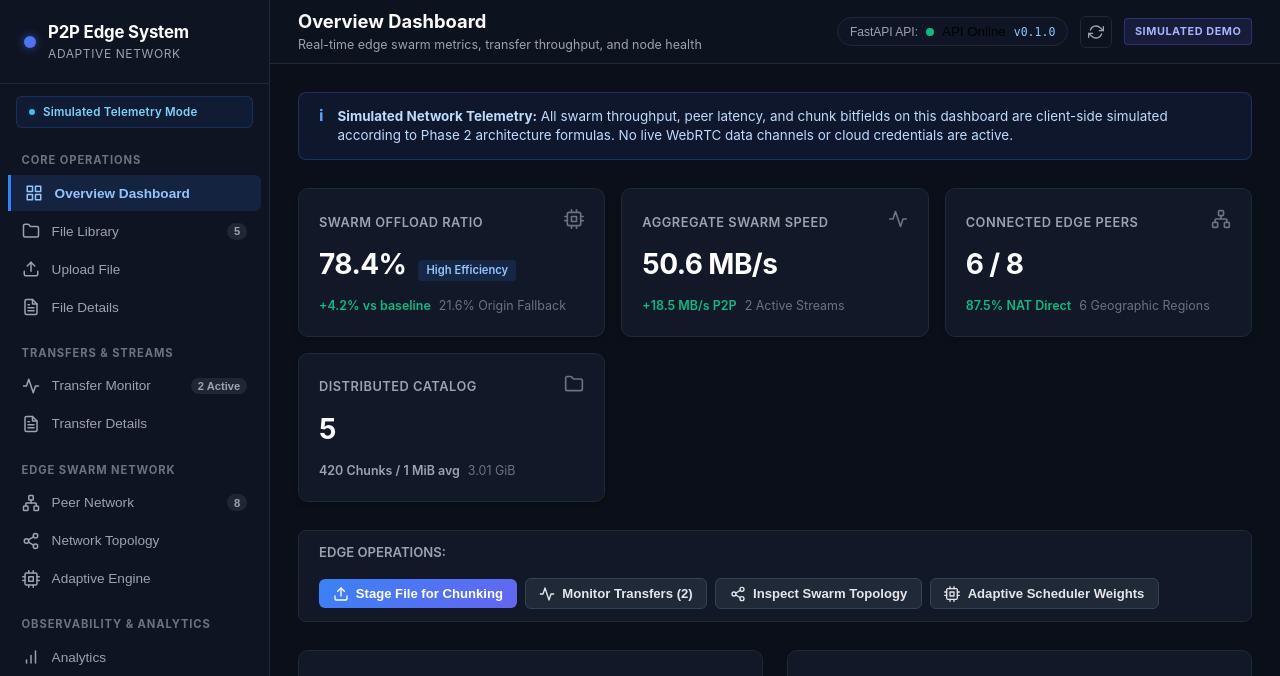
Intelligent P2P Edge Frontend - Phase 3 Navigation & UI › navigates to Upload File and shows chunk calculation
Click the button "Upload File": (134, 269) [8,251,261,287]
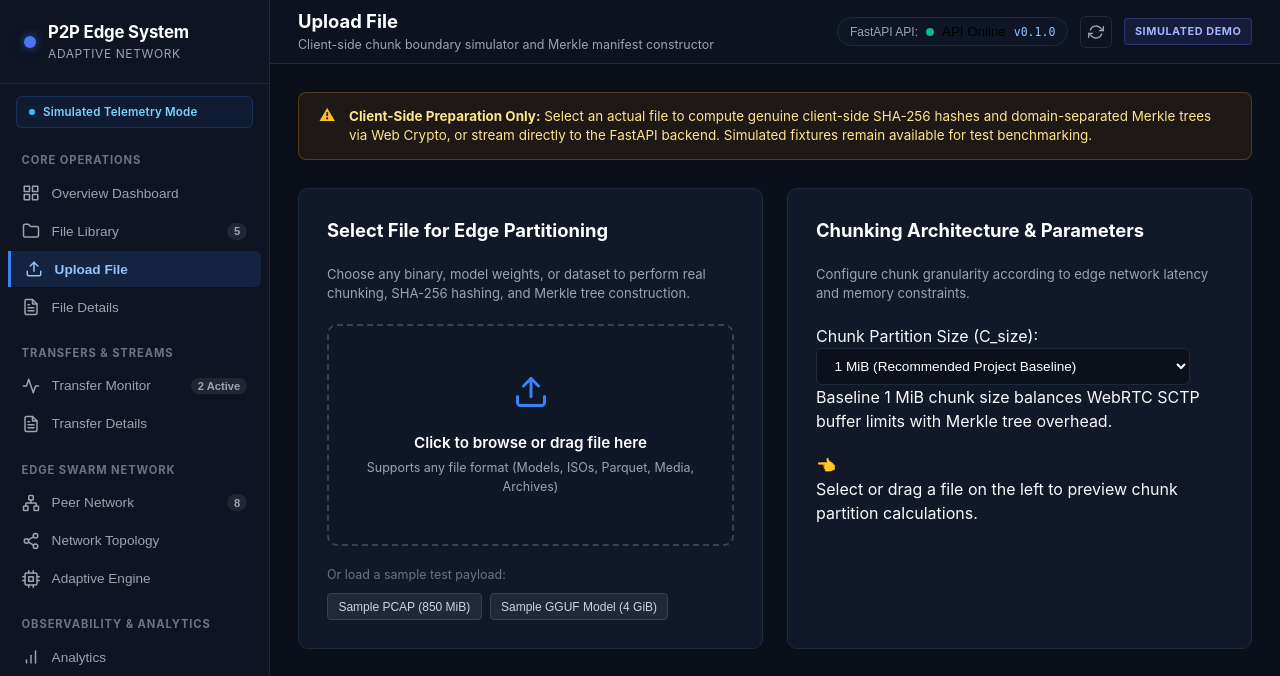
Expected: the heading "Select File for Edge Partitioning" is shown, [327,219,608,241]
Expected: the text "Client-Side Preparation Only:" is shown, [349,108,540,124]
// Click sample PCAP preset
Click the button "Sample PCAP (850 MiB)": (404, 607) [327,593,482,620]
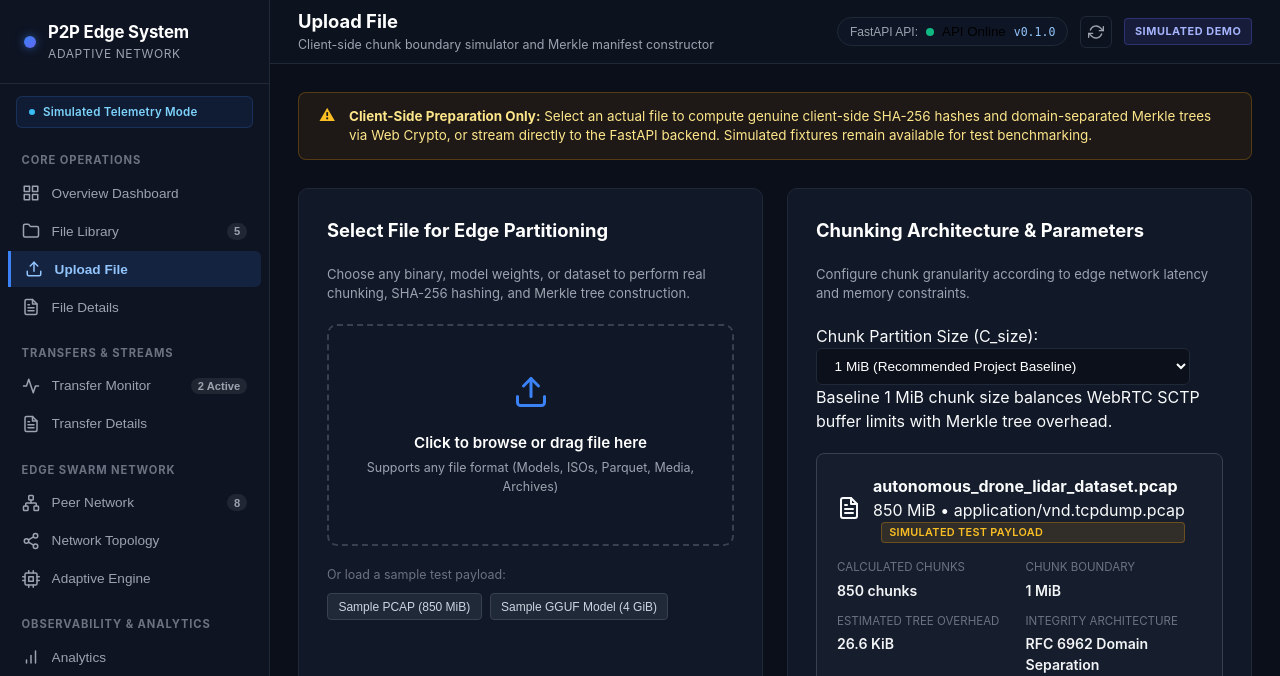
Expected: the text "autonomous_drone_lidar_dataset.pcap" is shown, [873,474,1185,498]
Expected: the text "850 chunks" is shown, [837,582,917,599]
